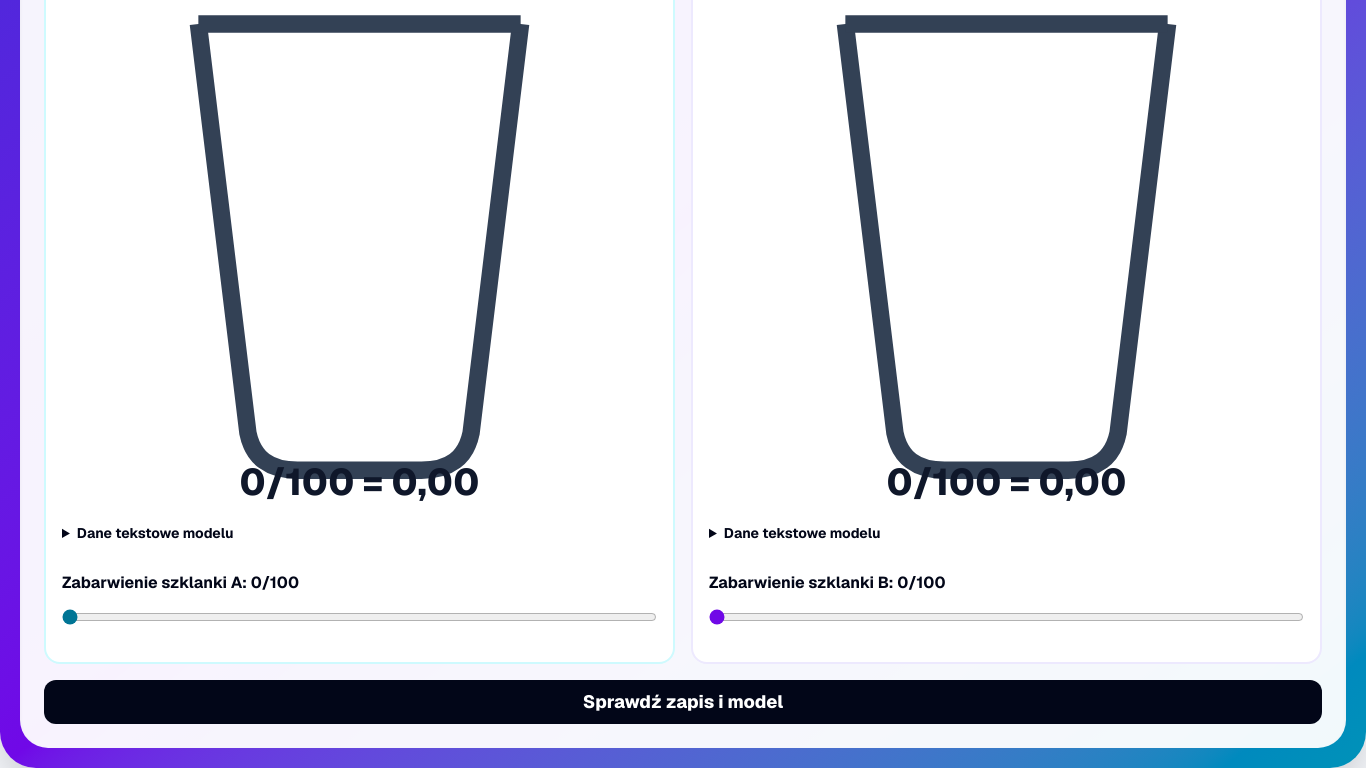
DecimalNotationL1Lab › barwi 0,4 i 0,04 niezależnie od koloru oraz udostępnia dane tekstowe SVG
(page scrolled)
Set the slider named "Zabarwienie szklanki A w setnych" to "40". click: (302, 617)
box: [62,595,657,639]
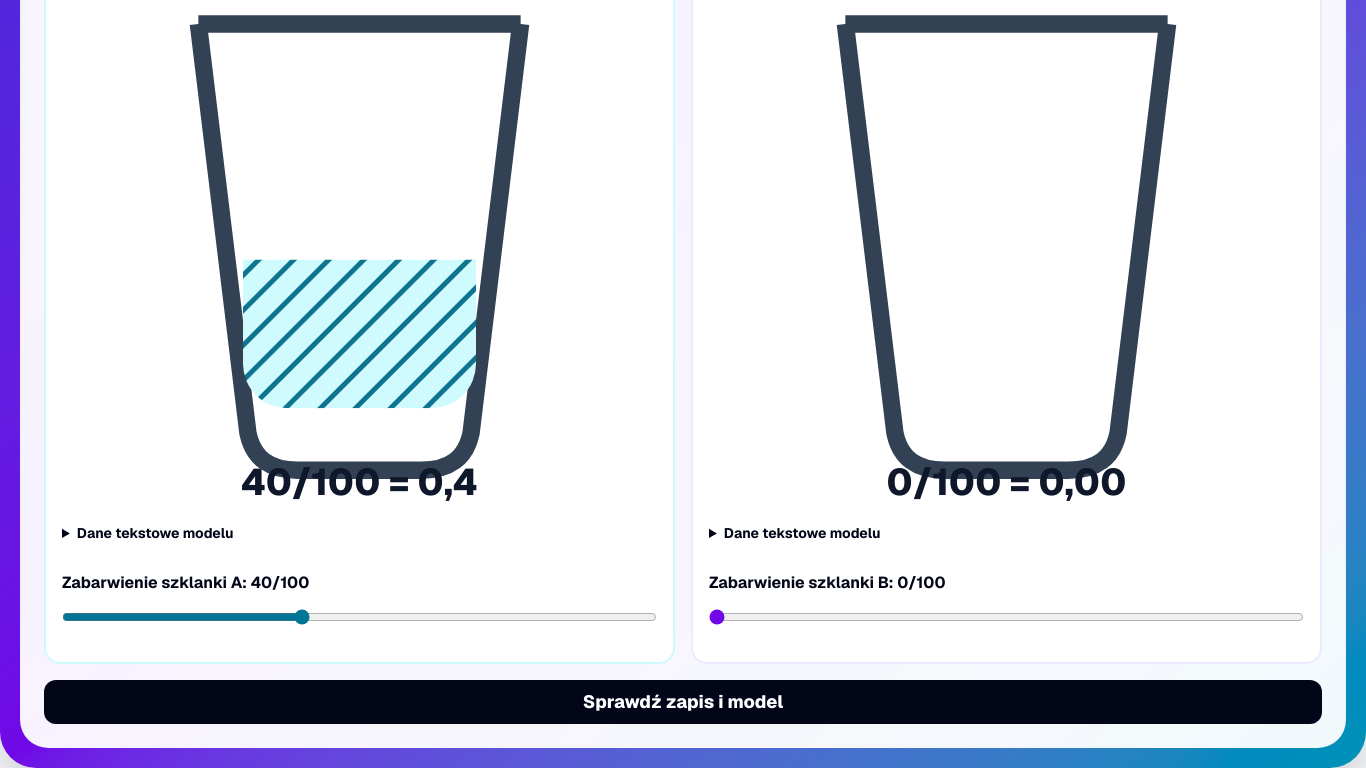
Set the slider named "Zabarwienie szklanki B w setnych" to "4". click: (740, 617)
box: [709,595,1304,639]
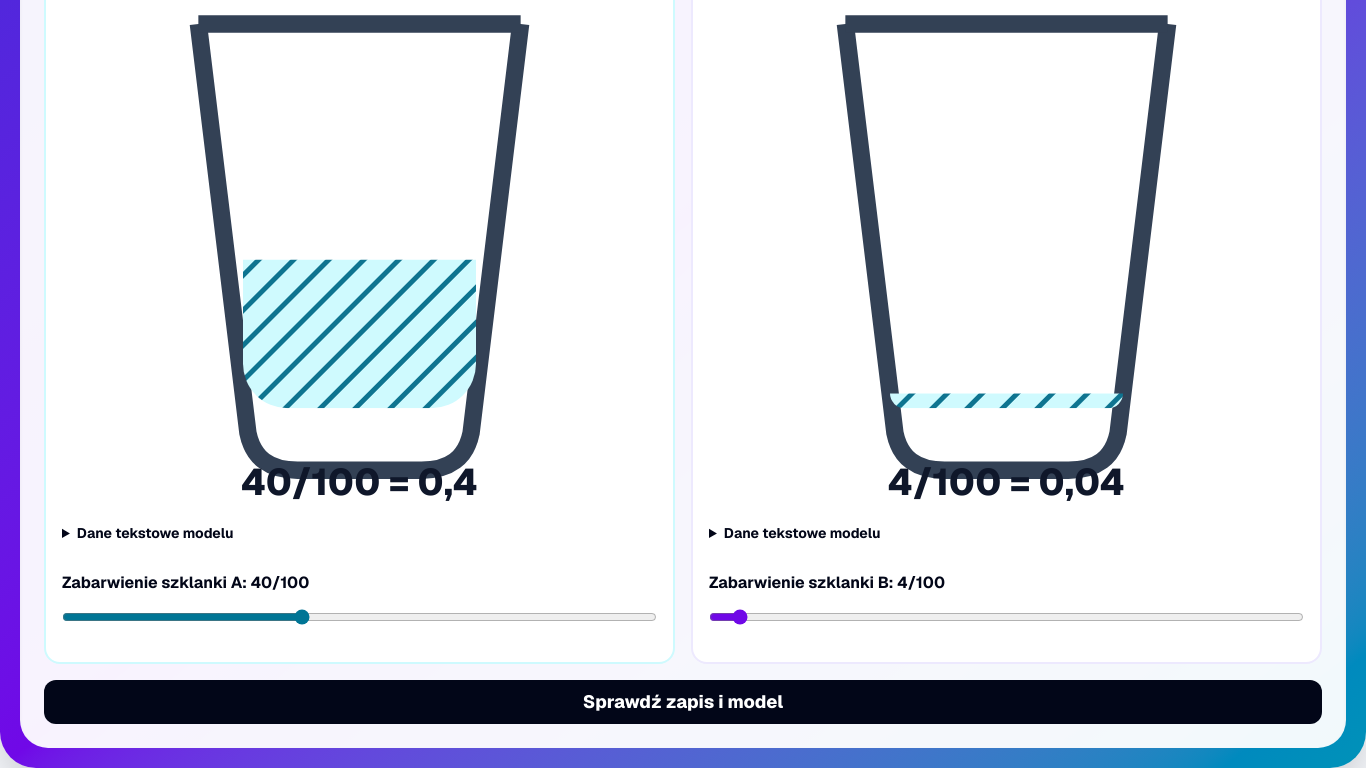
Click the button "Sprawdź zapis i model". click: (683, 702)
box: [44,680,1322,724]
(page scrolled)
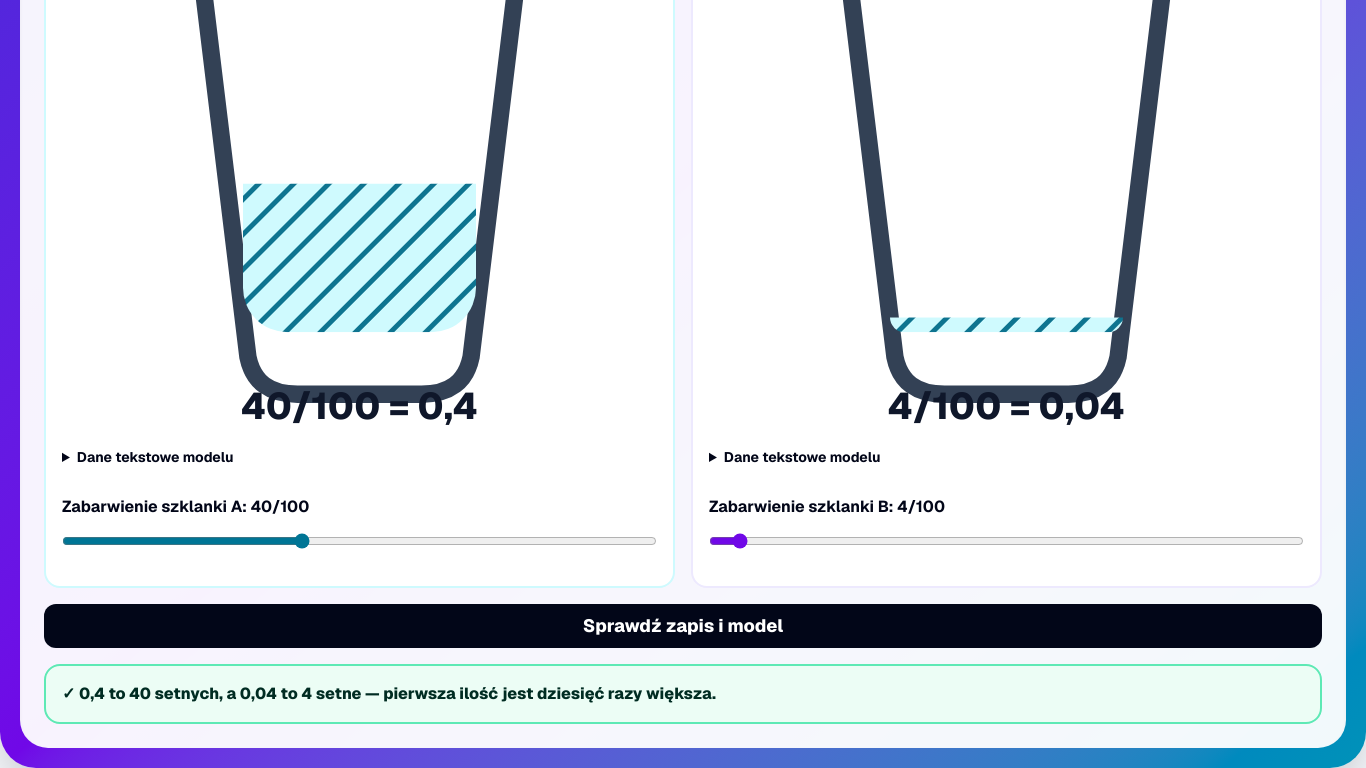
Check: the message shows "0,4 to 40 setnych, a 0,04 to 4 setne", box [79,683,716,704]
